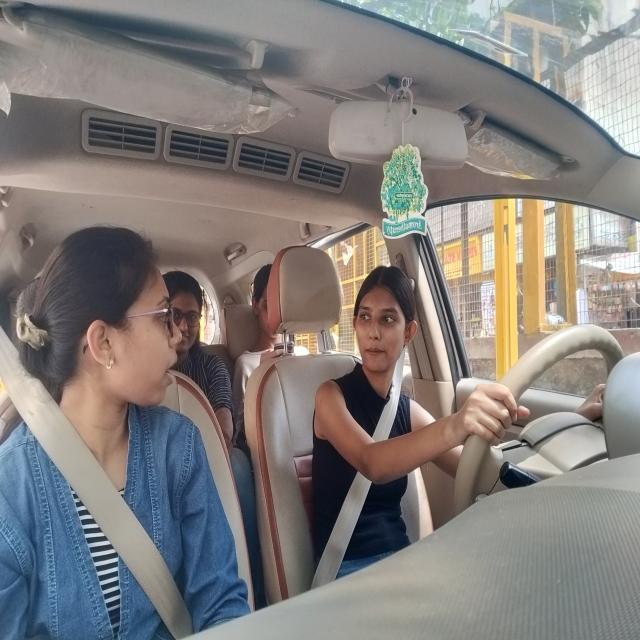LeftRight: (353, 256, 415, 378)
person: (60, 218, 182, 441), (166, 267, 205, 353), (248, 266, 286, 339)
